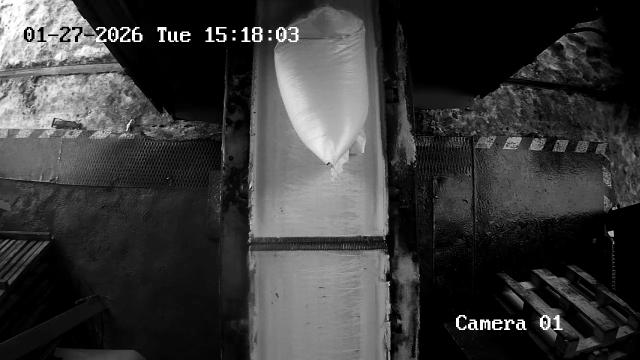bag: (274, 8, 368, 172)
